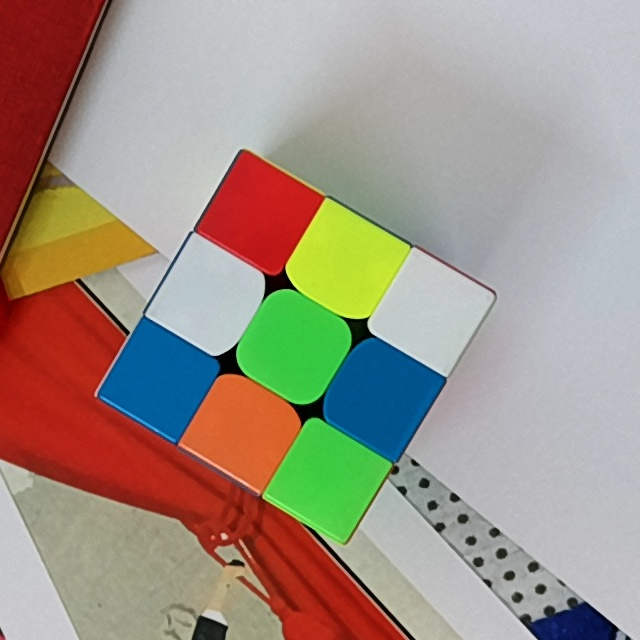tile: (257, 315, 329, 379), (310, 230, 379, 296), (225, 180, 294, 244), (176, 262, 243, 327), (346, 363, 414, 427), (400, 275, 463, 344), (296, 446, 363, 509), (129, 347, 190, 410), (213, 399, 274, 461)
